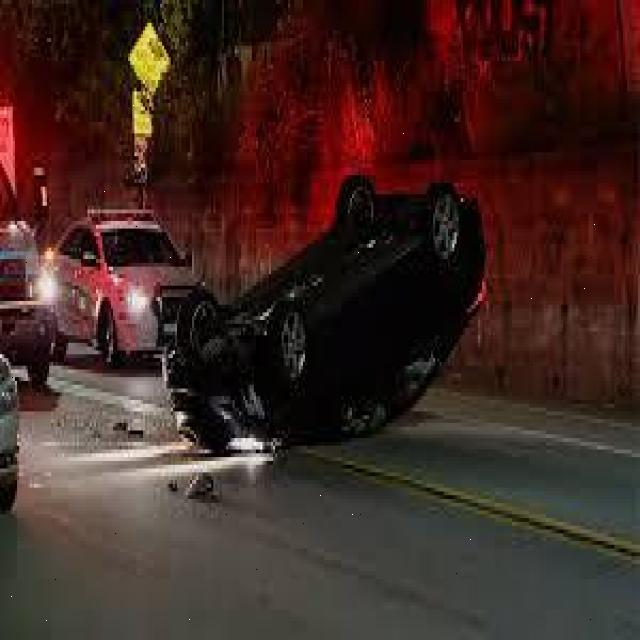severe: (163, 154, 492, 448)
